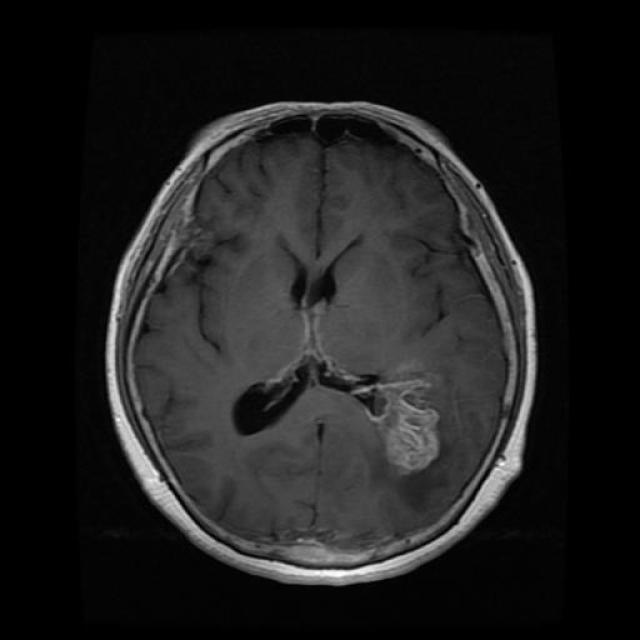brain_tumor: (354, 379, 440, 475)
